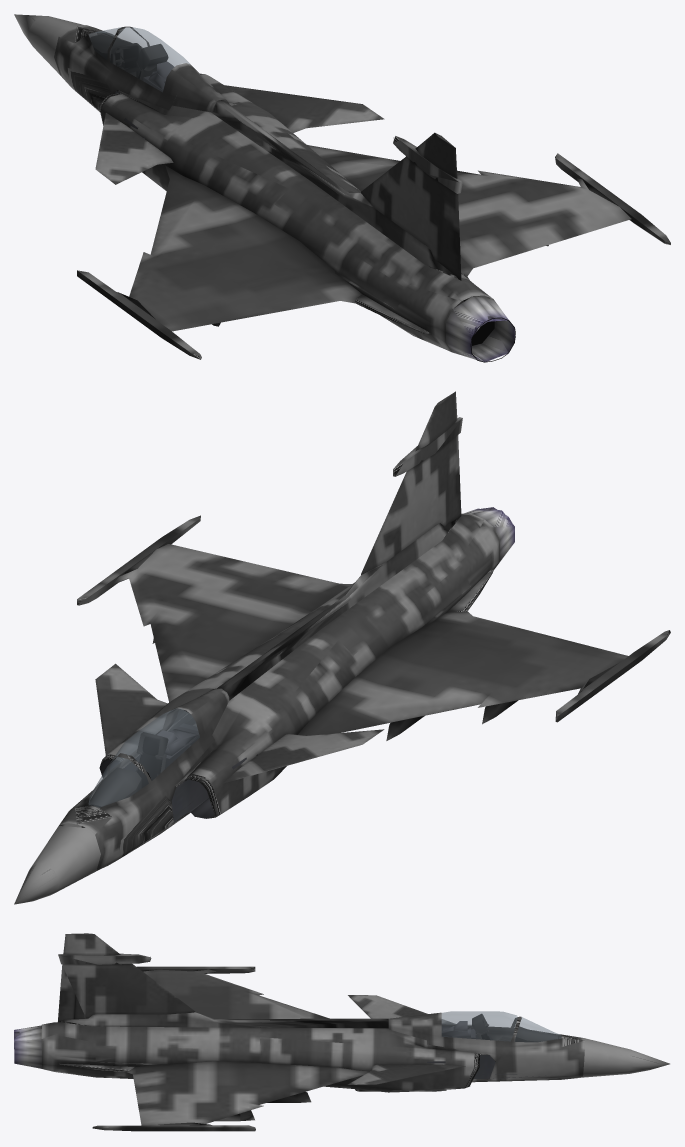
The model's file is e_gripen_lo.glb.
The picture shows the model from 3 angles, top to bottom: view 1: azimuth 30°, elevation 25°; view 2: azimuth 150°, elevation 25°; view 3: azimuth 270°, elevation 25°; orthographic projection. The views are drawn at different scales.
Parts seen in each view (by area): view 1: body|Camo, body|glass, body|material, body|White, body|Jet_m, body|Grey_d; view 2: body|Camo, body|glass, body|White, body|Grey_d, body|material, body|Jet_m; view 3: body|Camo, body|glass, body|White, body|material, body|Grey_d.
Part boxes in pixels (x1,y1,x2,y2): body|Camo: (54, 25, 670, 359); body|glass: (89, 27, 190, 91); body|material: (446, 296, 514, 361); body|White: (14, 14, 393, 138); body|Jet_m: (115, 46, 515, 362); body|Grey_d: (115, 61, 173, 138); body|Camo: (59, 391, 670, 870); body|glass: (88, 708, 199, 807); body|White: (14, 471, 394, 904); body|Grey_d: (99, 723, 257, 822); body|material: (464, 507, 514, 567); body|Jet_m: (137, 736, 162, 787); body|Camo: (41, 933, 584, 1131); body|glass: (441, 1011, 561, 1041); body|White: (150, 956, 669, 1077); body|material: (14, 1025, 41, 1068); body|Grey_d: (427, 1021, 545, 1086).
Bounding box in the file's own units: 8.78 × 3.68 × 14.72.
7 materials, 6 textured.
